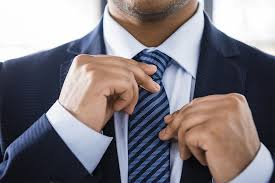tie: (118, 45, 177, 181)
